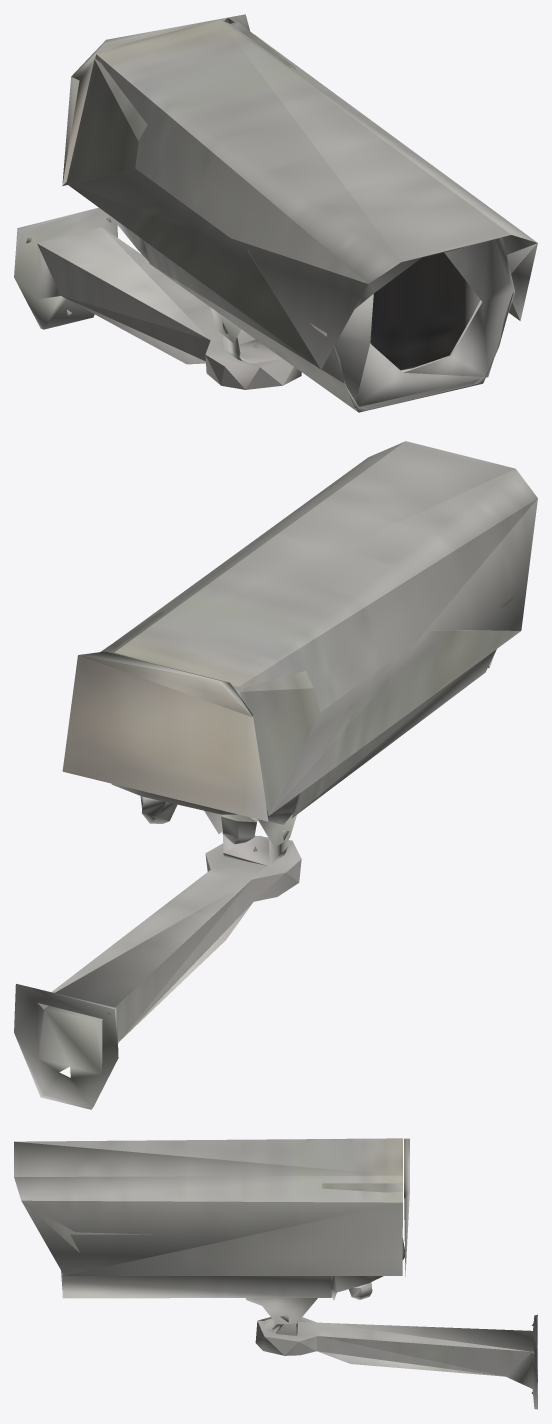
The model's file is security_camera.glb.
3 renders of one model, top to bottom at view 1: azimuth 30°, elevation 25°; view 2: azimuth 150°, elevation 25°; view 3: azimuth 270°, elevation 25°, orthographic. The views are drawn at different scales.
Parts seen in each view (by area): view 1: prop; view 2: prop; view 3: prop.
Boxes of the visible parts, x1,y1,x2,y2 form: prop: [14, 14, 537, 412]; prop: [14, 441, 537, 1109]; prop: [14, 1138, 537, 1409].
Size of the model in its own units: 0.1211 by 0.206 by 0.4.
Materials: 1 (1 with a texture image).
